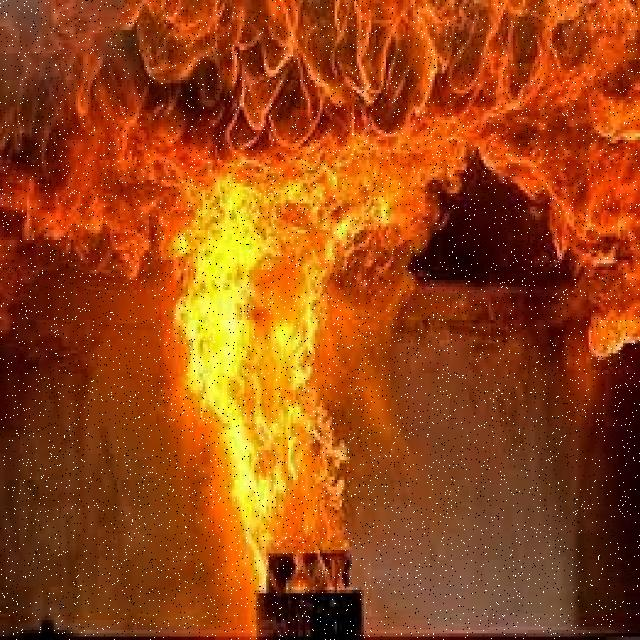fire: (172, 157, 396, 598)
